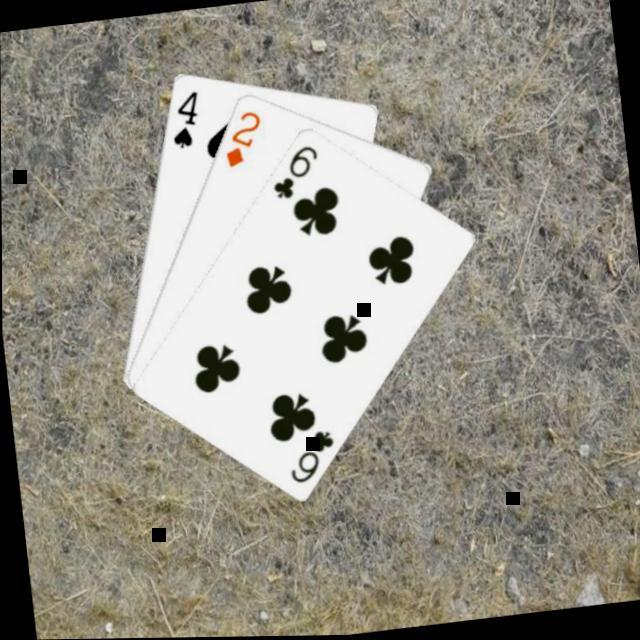2D: (216, 106, 266, 170)
4S: (162, 86, 205, 151)
6C: (263, 140, 323, 202), (280, 424, 339, 486)
